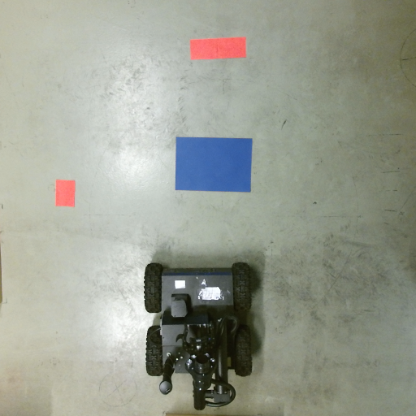Blue: (172, 133, 254, 195)
Jaguar: (139, 259, 257, 413)
Red: (187, 36, 250, 60), (52, 179, 77, 207)
